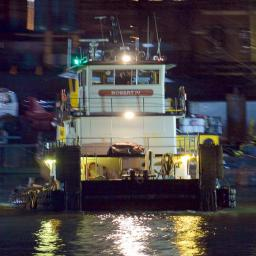tugboat: (36, 15, 240, 217)
